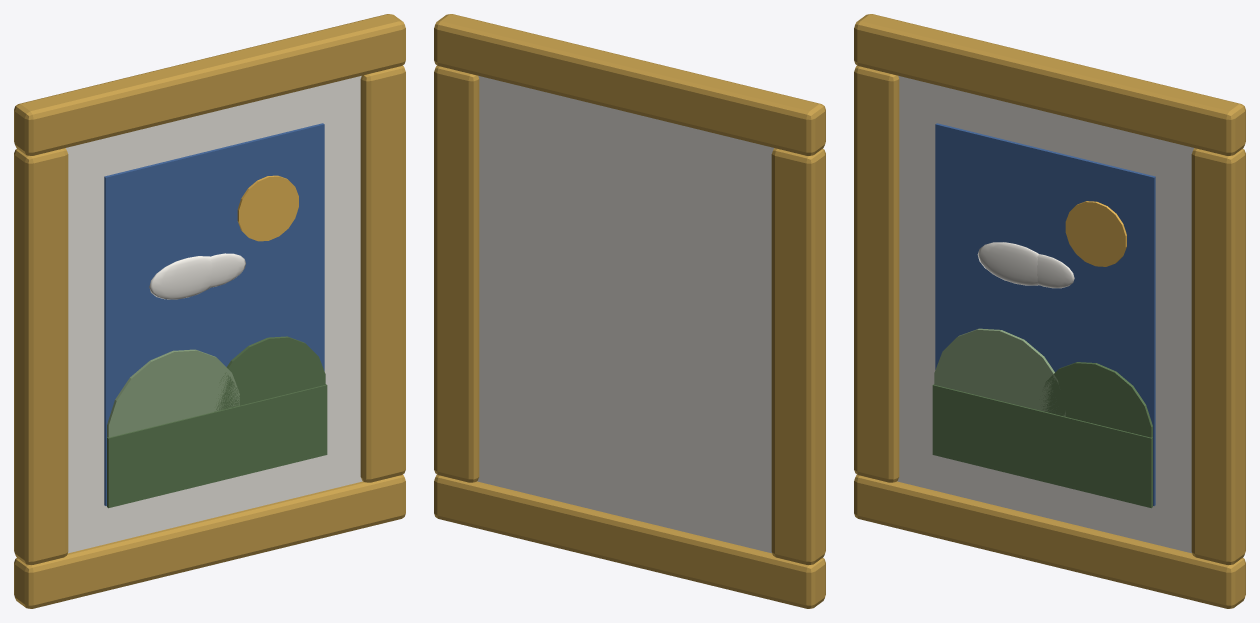
The model's file is hh_cat_picture_frame.glb.
The picture shows the model from 3 angles, left to right: view 1: azimuth 30°, elevation 25°; view 2: azimuth 150°, elevation 25°; view 3: azimuth 330°, elevation 25°; orthographic projection.
Parts seen in each view (by area): view 1: mount, picture_sky, frame_stile, frame_rail.001, frame_stile.001, frame_rail, picture_field, picture_hill, picture_hill.001, picture_sun, picture_cloud, picture_cloud.001; view 2: mount, frame_stile, frame_rail.001, frame_stile.001, frame_rail; view 3: mount, picture_sky, frame_stile.001, frame_rail.001, frame_stile, frame_rail, picture_field, picture_hill, picture_hill.001, picture_sun, picture_cloud, picture_cloud.001.
Part boxes in pixels (x1,y1,x2,y2): mount: (66, 76, 362, 553); picture_sky: (104, 123, 324, 505); frame_stile: (14, 148, 68, 565); frame_rail.001: (14, 14, 405, 155); frame_stile.001: (360, 65, 405, 482); frame_rail: (14, 474, 405, 608); picture_field: (107, 384, 327, 508); picture_hill: (107, 349, 239, 437); picture_hill.001: (214, 336, 325, 411); picture_sun: (237, 175, 298, 241); picture_cloud: (149, 256, 212, 299); picture_cloud.001: (210, 253, 245, 287); mount: (477, 76, 773, 553); frame_stile: (771, 148, 825, 565); frame_rail.001: (434, 14, 825, 155); frame_stile.001: (434, 65, 479, 482); frame_rail: (434, 474, 825, 608); mount: (897, 76, 1193, 553); picture_sky: (935, 123, 1155, 505); frame_stile.001: (1191, 148, 1245, 565); frame_rail.001: (854, 14, 1245, 155); frame_stile: (854, 65, 899, 482); frame_rail: (854, 474, 1245, 608); picture_field: (932, 384, 1152, 508); picture_hill: (934, 328, 1065, 416); picture_hill.001: (1042, 362, 1152, 437); picture_sun: (1065, 201, 1126, 266); picture_cloud: (977, 242, 1038, 285); picture_cloud.001: (1037, 254, 1074, 288).
Size of the model in its own units: 0.4 by 0.5 by 0.03.
